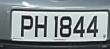1: (51, 14, 60, 41)
4: (86, 13, 100, 41), (73, 13, 86, 41)
8: (58, 13, 73, 41)
H: (34, 13, 49, 42)
P: (19, 12, 35, 41)
